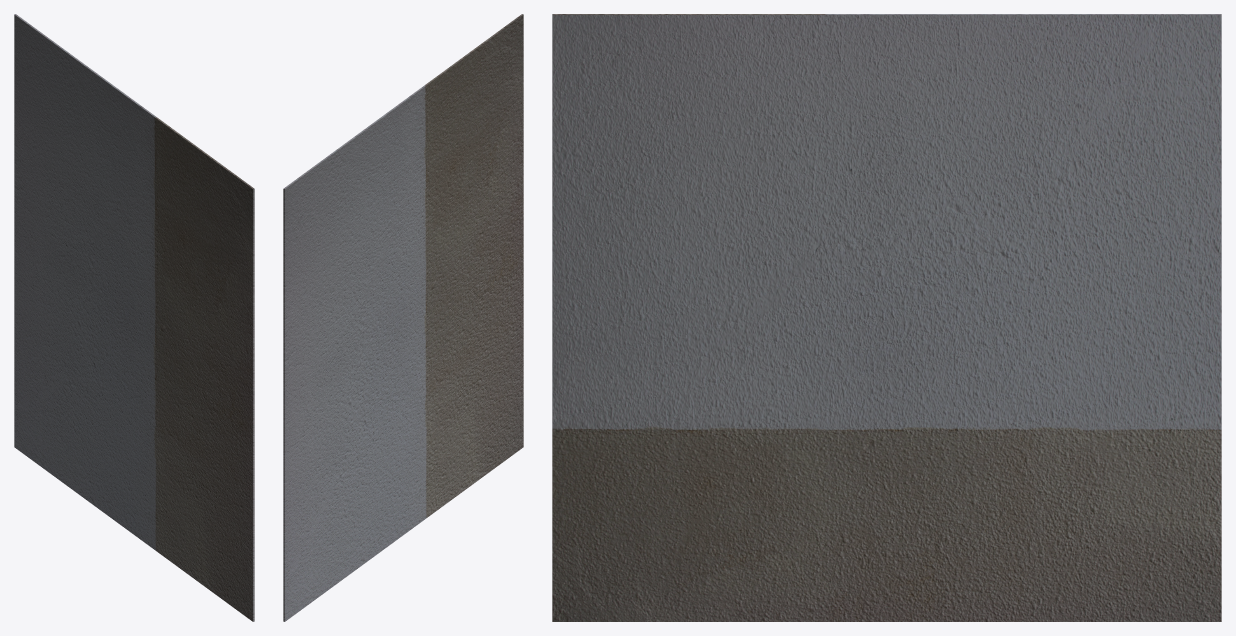
Rendered from perete5x5m.fbx.
The picture shows the model from 3 angles, left to right: view 1: azimuth 30°, elevation 25°; view 2: azimuth 150°, elevation 25°; view 3: azimuth 270°, elevation 25°; orthographic projection. The views are drawn at different scales.
Parts seen in each view (by area): view 1: Plane; view 2: Plane; view 3: Plane.
Boxes of the visible parts, x1=… form: Plane: x1=14, y1=14, x2=254, y2=621; Plane: x1=283, y1=14, x2=523, y2=621; Plane: x1=552, y1=14, x2=1221, y2=621.
Size of the model in its own units: 2 by 500 by 500.
